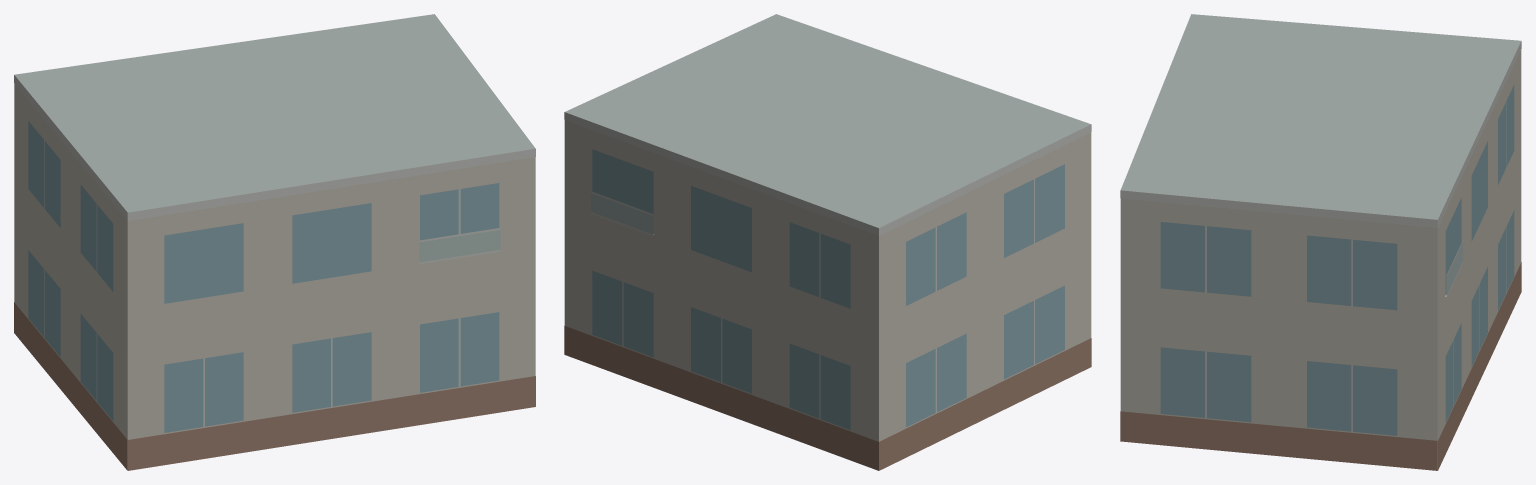
The model's file is survey-upis-32698995.glb.
The picture shows the model from 3 angles, left to right: view 1: azimuth 30°, elevation 25°; view 2: azimuth 150°, elevation 25°; view 3: azimuth 270°, elevation 25°; orthographic projection. The views are drawn at different scales.
Visible parts, largest first — view 1: survey-upis-32698995.tmp; view 2: survey-upis-32698995.tmp; view 3: survey-upis-32698995.tmp.
Boxes of the visible parts, x1=… form: survey-upis-32698995.tmp: x1=14, y1=14, x2=535, y2=470; survey-upis-32698995.tmp: x1=564, y1=14, x2=1091, y2=470; survey-upis-32698995.tmp: x1=1120, y1=14, x2=1521, y2=470.
Bounding box in the file's own units: 13.37 × 7.6 × 11.01.
